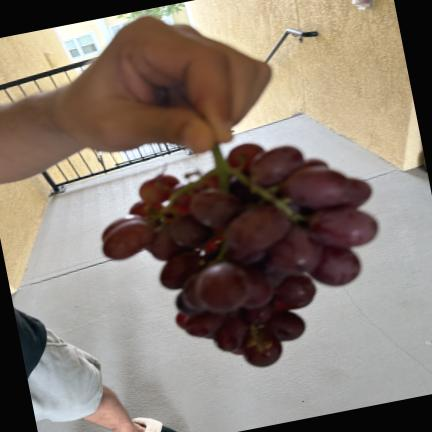grape_cluster: (102, 144, 377, 367)
